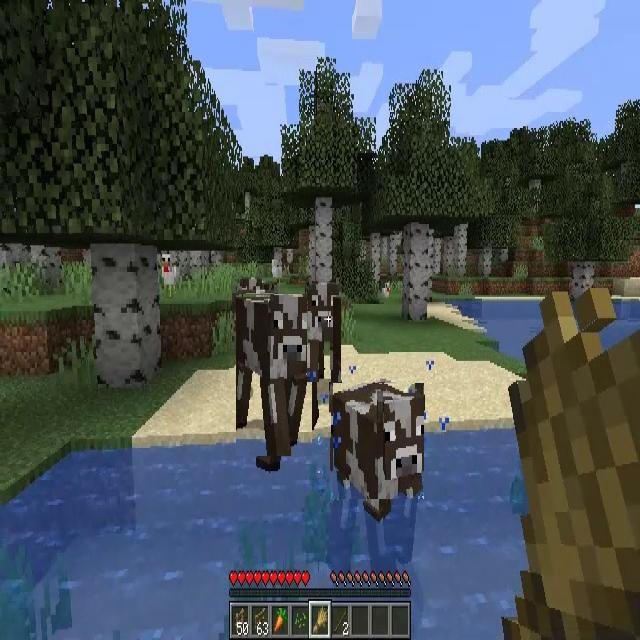cow: (236, 294, 312, 456), (333, 383, 424, 499), (307, 282, 341, 382)
